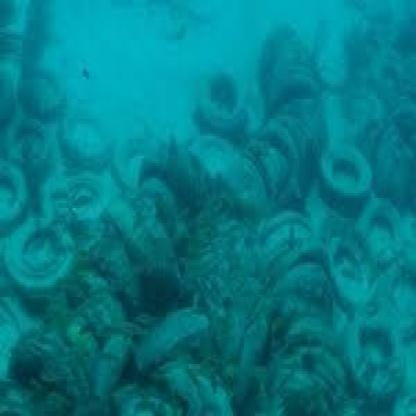tire: (359, 304, 416, 416), (190, 64, 259, 156), (16, 218, 80, 314), (329, 228, 377, 317), (323, 141, 373, 213)
